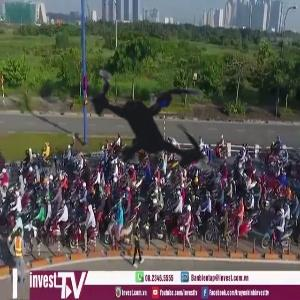drone: (22, 1, 273, 252)
